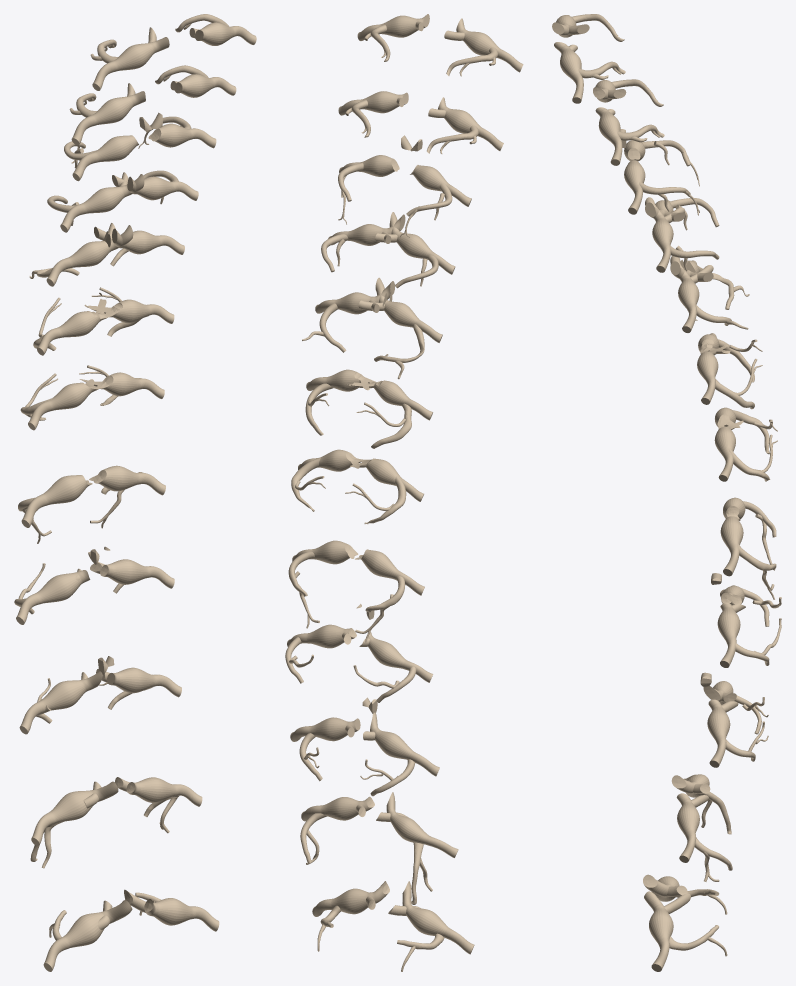
The model's file is SpinalNerves6.glb.
3 views of the same model, side by side, from view 1: azimuth 30°, elevation 25°; view 2: azimuth 150°, elevation 25°; view 3: azimuth 270°, elevation 25° (orthographic). The views are drawn at different scales.
Parts seen in each view (by area): view 1: Thoracic Spinal Nerves 1; view 2: Thoracic Spinal Nerves 1; view 3: Thoracic Spinal Nerves 1.
Part boxes in pixels (x1,y1,x2,y2): Thoracic Spinal Nerves 1: (14,14,256,971); Thoracic Spinal Nerves 1: (285,14,523,971); Thoracic Spinal Nerves 1: (552,14,781,971).
Size of the model in its own units: 54.93 by 287 by 66.04.
